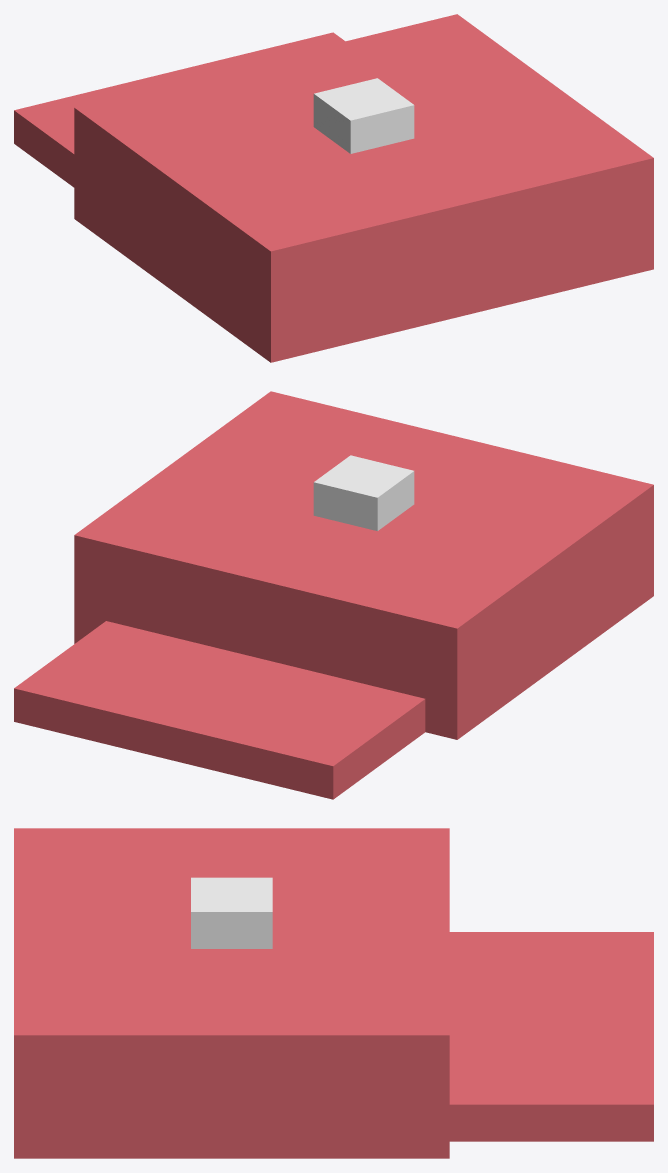
Rendered from hat_cap.gltf.
The picture shows the model from 3 angles, top to bottom: view 1: azimuth 30°, elevation 25°; view 2: azimuth 150°, elevation 25°; view 3: azimuth 270°, elevation 25°; orthographic projection. The views are drawn at different scales.
Parts seen in each view (by area): view 1: hat_cap; view 2: hat_cap; view 3: hat_cap.
Boxes of the visible parts, left/top/right/bottom form: hat_cap: left=14, top=14, right=653, bottom=362; hat_cap: left=14, top=391, right=653, bottom=799; hat_cap: left=14, top=828, right=653, bottom=1158.
Bounding box in the file's own units: 0.36 × 0.13 × 0.47.
